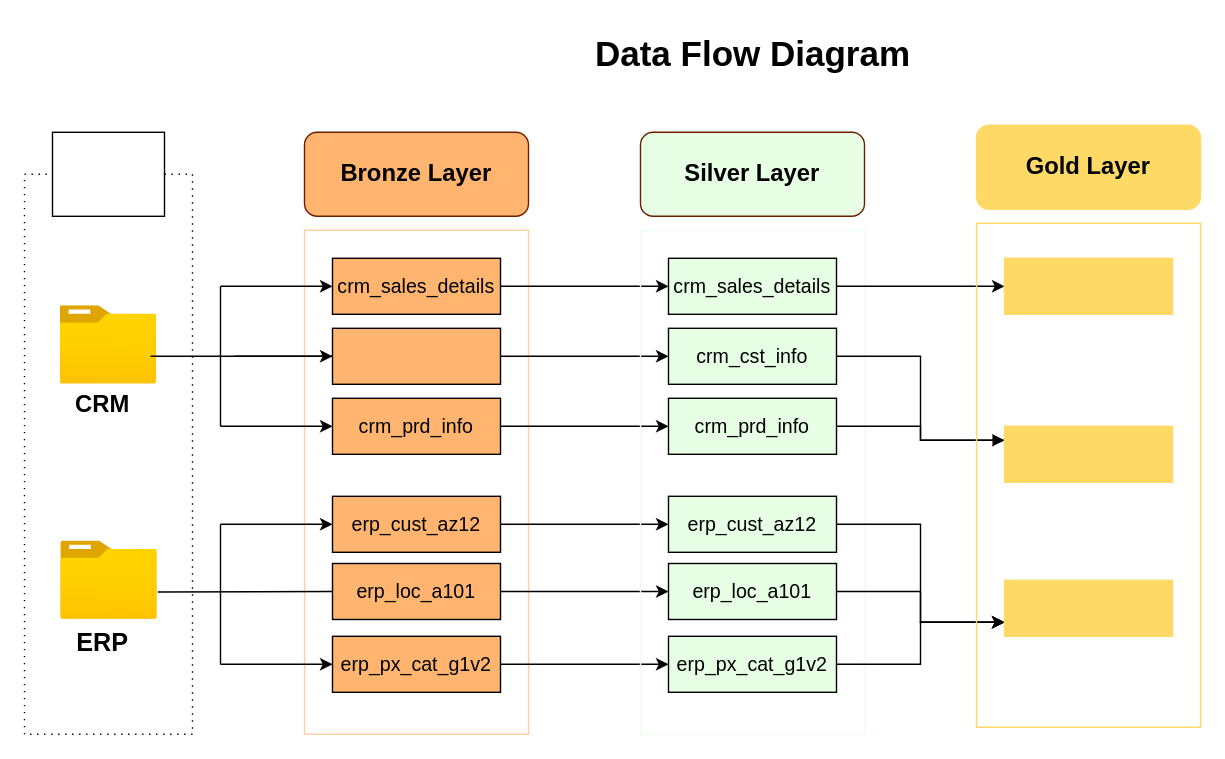
Image size: 1225x759. Some labels were removed from this diagram. Each missing label, with the centre of its shape:
"crm_cust_info" goes at point 415,355.
"dim_customer" goes at point 1087,453.
"dim_products" goes at point 1087,607.
"fact_sales" goes at point 1087,285.
"Sources" goes at point 107,173.
